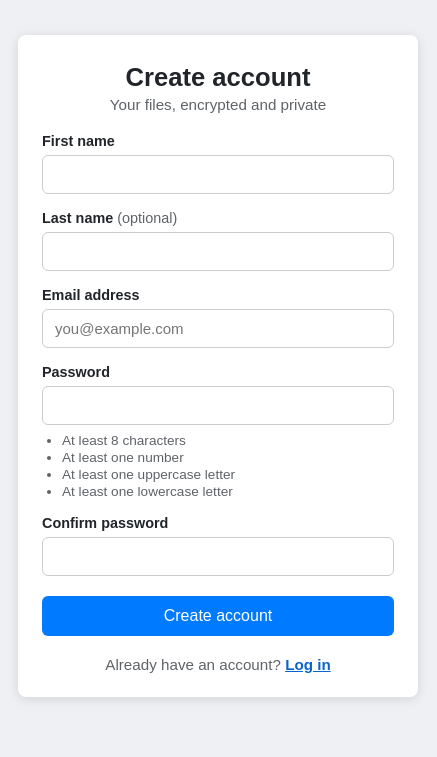
Scenario: Register page › shows the server's message when sign-ups are limited (429)
Type "Sam" into the field labelled "First name" at (218, 174), box [42,155,394,194]
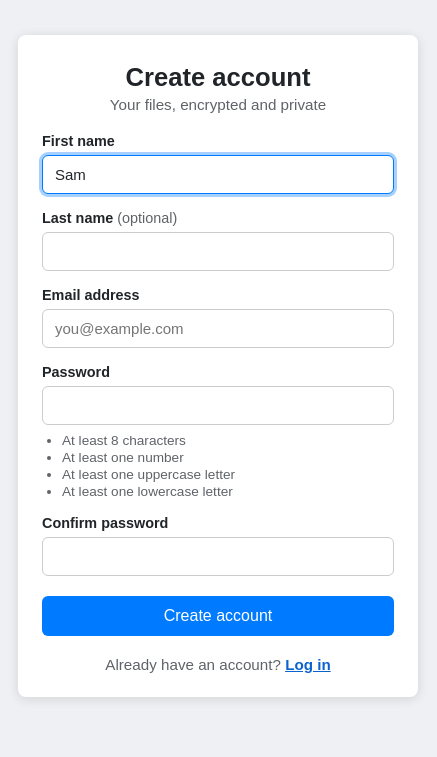
Type "sam@example.com" into the field labelled "Email address" at (218, 328), box [42,309,394,348]
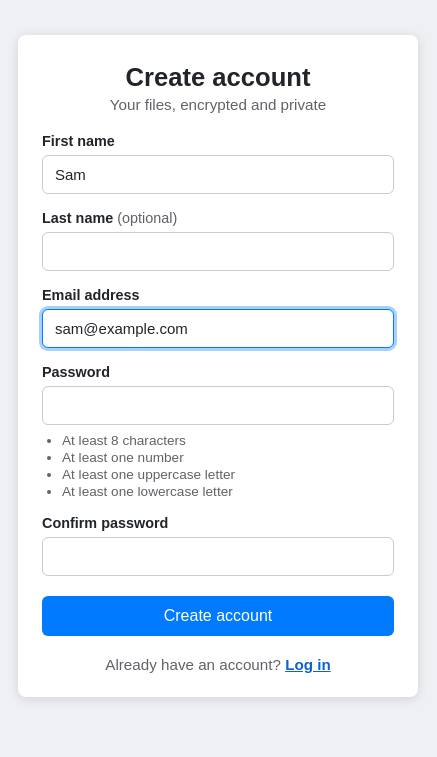
Type "Str0ngPassword!" into the password field labelled "Password" at (218, 406), box [42,386,394,425]
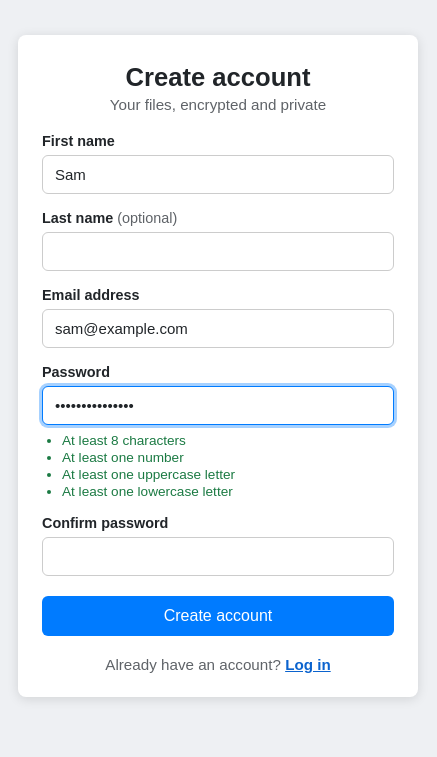
Type "Str0ngPassword!" into the password field labelled "Confirm password" at (218, 556), box [42,537,394,576]
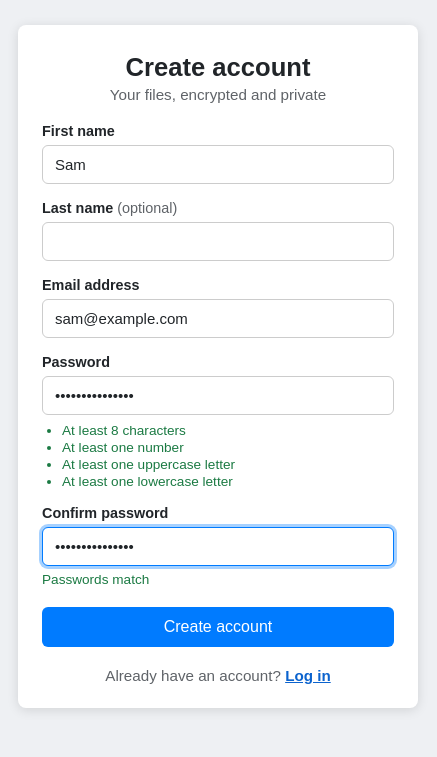
Click the button "Create account" at (218, 626), box [42,606,394,646]
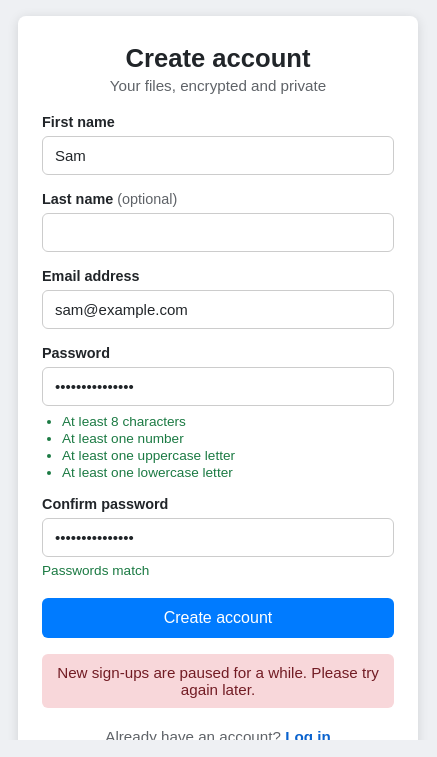
Check: the button "Create account" is enabled, box [42,598,394,638]
Check: the message reads "New sign-ups are paused for a while. Please try again later.", box [57,664,379,698]
